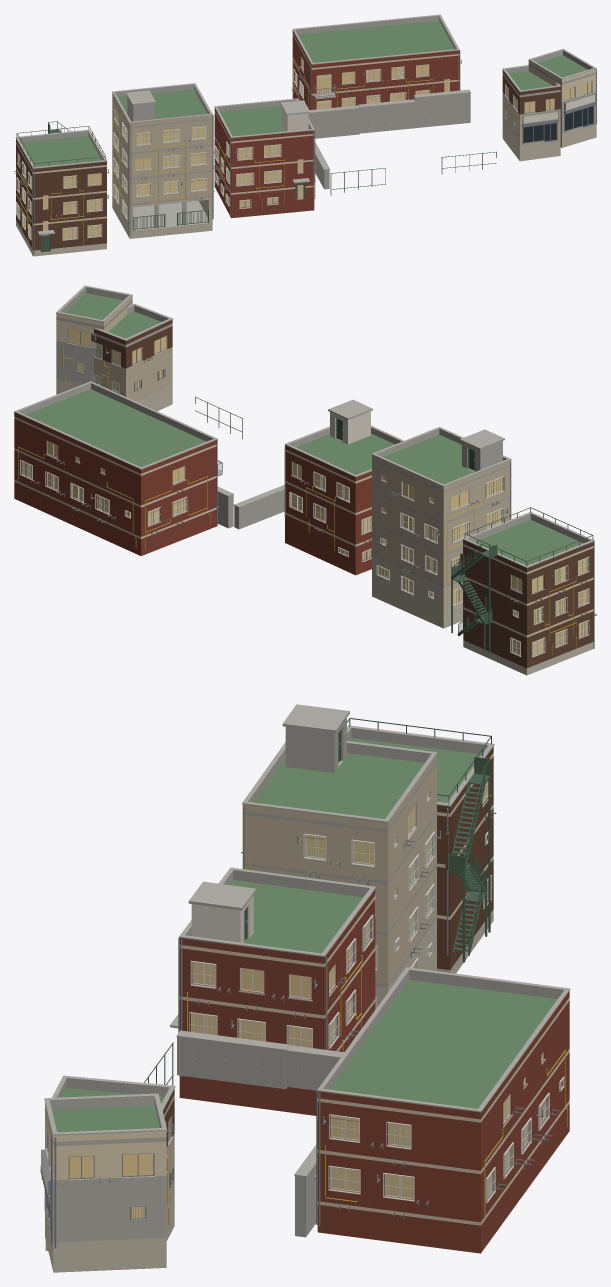
File: Z1_HoomunS.fbx
3 renders of one model, top to bottom at view 1: azimuth 30°, elevation 25°; view 2: azimuth 150°, elevation 25°; view 3: azimuth 270°, elevation 25°, orthographic. The views are drawn at different scales.
Visible parts, largest first — view 1: villa_009_LOD0, villa_041_LOD0, villa_008_LOD0, villa_010_LOD0, Fences_HoomunS_LOD0, shop_007_LOD0, shop_006_LOD0, villa_009_Detail_LOD0, villa_008_Detail_LOD0, villa_010_Detail_LOD0, villa_041_Detail_LOD0, WinLit_HoomunS_t00 (+6 smaller); view 2: villa_041_LOD0, villa_009_LOD0, villa_010_LOD0, villa_008_LOD0, shop_007_LOD0, shop_006_LOD0, villa_010_Detail_LOD0, villa_009_Detail_LOD0, Fences_HoomunS_LOD0, villa_041_Detail_LOD0, villa_008_Detail_LOD0, WinLit_HoomunS_t04 (+7 smaller); view 3: villa_041_LOD0, villa_009_LOD0, villa_008_LOD0, shop_006_LOD0, villa_010_LOD0, Fences_HoomunS_LOD0, villa_041_Detail_LOD0, villa_008_Detail_LOD0, shop_007_LOD0, villa_009_Detail_LOD0, WinLit_HoomunS_t09, WinLit_HoomunS_t01 (+5 smaller).
Part boxes in pixels (x1,y1,x2,y2): villa_009_LOD0: (112, 83, 212, 238); villa_041_LOD0: (292, 14, 459, 109); villa_008_LOD0: (214, 98, 314, 218); villa_010_LOD0: (15, 121, 107, 256); Fences_HoomunS_LOD0: (308, 89, 496, 195); shop_007_LOD0: (502, 65, 560, 161); shop_006_LOD0: (528, 48, 596, 147); villa_009_Detail_LOD0: (112, 115, 215, 236); villa_008_Detail_LOD0: (213, 130, 316, 216); villa_010_Detail_LOD0: (14, 125, 108, 255); villa_041_Detail_LOD0: (291, 50, 461, 109); WinLit_HoomunS_t00: (18, 64, 428, 190); villa_041_LOD0: (14, 381, 222, 555); villa_009_LOD0: (371, 427, 511, 628); villa_010_LOD0: (451, 507, 596, 675); villa_008_LOD0: (284, 399, 403, 575); shop_007_LOD0: (91, 303, 172, 411); shop_006_LOD0: (56, 285, 132, 394); villa_010_Detail_LOD0: (452, 540, 594, 657); villa_009_Detail_LOD0: (376, 461, 511, 617); Fences_HoomunS_LOD0: (195, 396, 284, 529); villa_041_Detail_LOD0: (18, 441, 221, 550); villa_008_Detail_LOD0: (284, 446, 371, 562); WinLit_HoomunS_t04: (47, 441, 587, 615); villa_041_LOD0: (314, 967, 570, 1253); villa_009_LOD0: (242, 704, 437, 1009); villa_008_LOD0: (170, 867, 376, 1115); shop_006_LOD0: (40, 1093, 167, 1272); villa_010_LOD0: (347, 718, 494, 973); Fences_HoomunS_LOD0: (144, 1030, 344, 1237); villa_041_Detail_LOD0: (316, 1050, 567, 1226); villa_008_Detail_LOD0: (178, 914, 373, 1077); shop_007_LOD0: (41, 1075, 175, 1250); villa_009_Detail_LOD0: (241, 806, 441, 1008); WinLit_HoomunS_t09: (131, 835, 430, 1218); WinLit_HoomunS_t01: (193, 962, 542, 1198).
Size of what is drawn, in the model's own units: 60.02 by 16.42 by 27.97.
